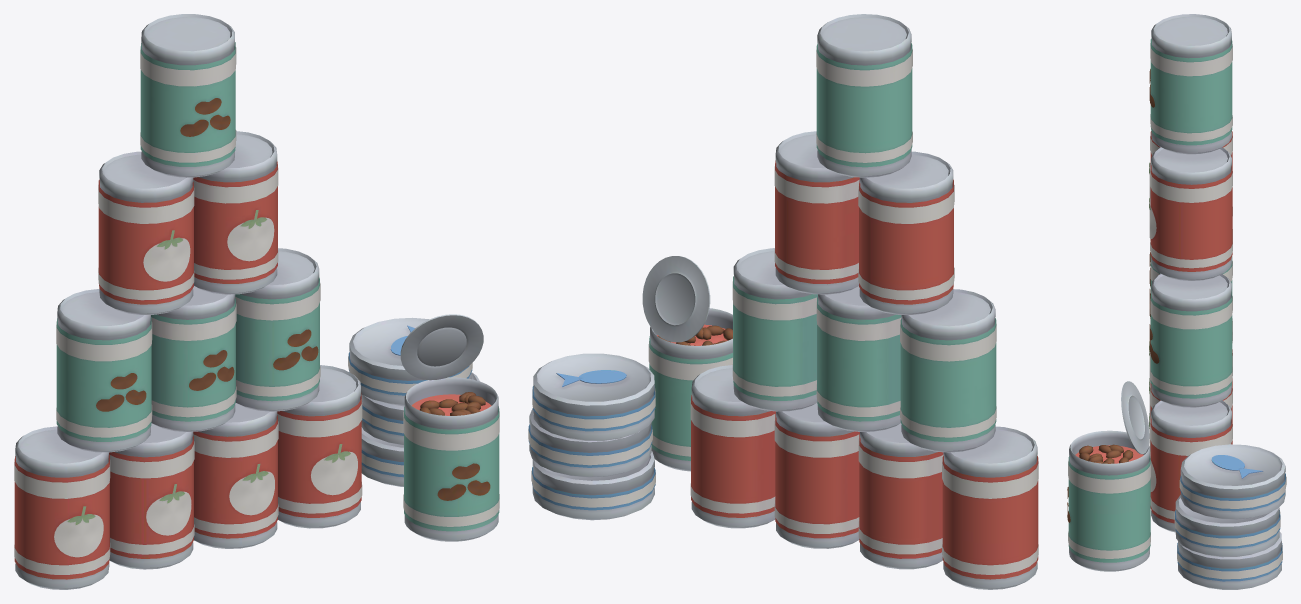
File: canned-goods.fbx
The picture shows the model from 3 angles, left to right: view 1: azimuth 30°, elevation 25°; view 2: azimuth 150°, elevation 25°; view 3: azimuth 270°, elevation 25°; orthographic projection. The views are drawn at different scales.
Parts seen in each view (by area): view 1: canned-goods_body; view 2: canned-goods_body; view 3: canned-goods_body.
Boxes of the visible parts, x1,y1,x2,y2 form: canned-goods_body: [14, 14, 499, 589]; canned-goods_body: [528, 14, 1038, 589]; canned-goods_body: [1067, 14, 1286, 589].
Bounding box in the file's own units: 0.4292 × 0.44 × 0.2003.
1 material, 1 textured.
